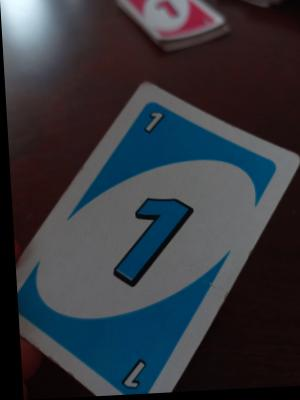blue: (92, 163, 213, 324)
num_1: (139, 109, 165, 134)
